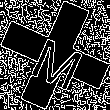M_NE: (23, 22, 87, 88)
